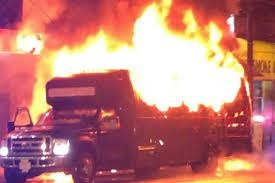fire: (33, 0, 253, 116)
